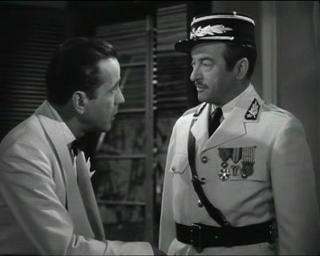face: (189, 51, 222, 103), (102, 75, 126, 131)
ms: (1, 1, 320, 256)
person: (158, 10, 320, 256), (1, 37, 168, 256)
